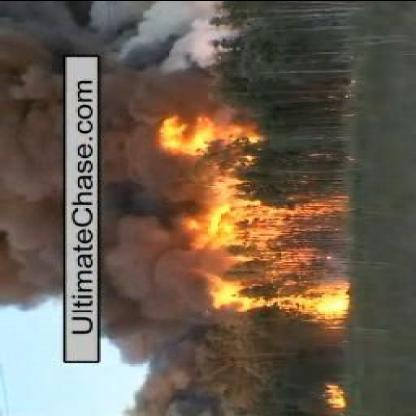-: (4, 40, 61, 300)
foggia-v2-map80-epoch100 - v1 4323: (302, 286, 350, 320)
